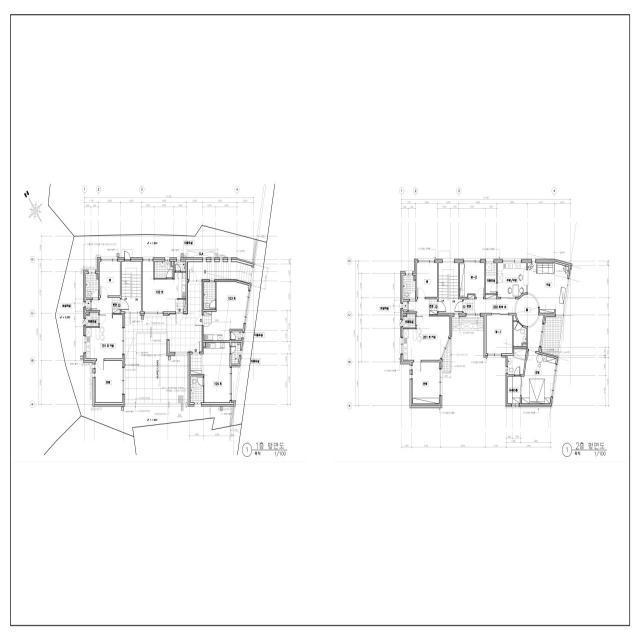space_bedroom: (522, 351, 556, 404), (413, 362, 439, 404), (96, 361, 122, 402), (486, 315, 512, 353), (460, 263, 484, 297), (417, 263, 437, 297), (100, 262, 120, 295)
space_dressroom: (508, 377, 521, 404)
space_front: (191, 354, 202, 374), (464, 295, 475, 313), (429, 299, 438, 315), (203, 312, 212, 327), (176, 299, 186, 312), (112, 298, 120, 313)
space_kitchen: (498, 263, 526, 298), (86, 328, 105, 359), (403, 329, 422, 360), (204, 327, 230, 340), (175, 272, 186, 298), (204, 343, 230, 354)
space_living_room: (475, 263, 569, 352), (409, 299, 449, 360), (208, 282, 249, 329), (92, 298, 122, 359), (143, 261, 177, 311), (202, 354, 230, 402)
space_other: (125, 282, 202, 406), (486, 263, 496, 293), (231, 343, 241, 364), (403, 314, 415, 328), (86, 312, 98, 326), (231, 331, 243, 340), (175, 262, 186, 271), (403, 301, 408, 312), (86, 300, 90, 310), (514, 315, 517, 320), (403, 314, 406, 316), (523, 344, 526, 346), (86, 312, 89, 314), (97, 274, 98, 278), (204, 343, 205, 347)
space_staircase: (187, 262, 253, 283), (439, 263, 462, 313), (122, 262, 141, 311)
space_toilet: (508, 349, 526, 374), (191, 376, 203, 402), (403, 275, 416, 299), (204, 282, 215, 310), (155, 261, 173, 278), (514, 322, 526, 346), (86, 274, 98, 298)
